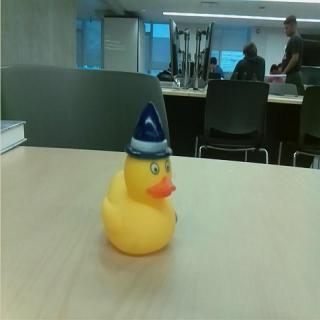duck_specialty: (100, 101, 180, 257)
